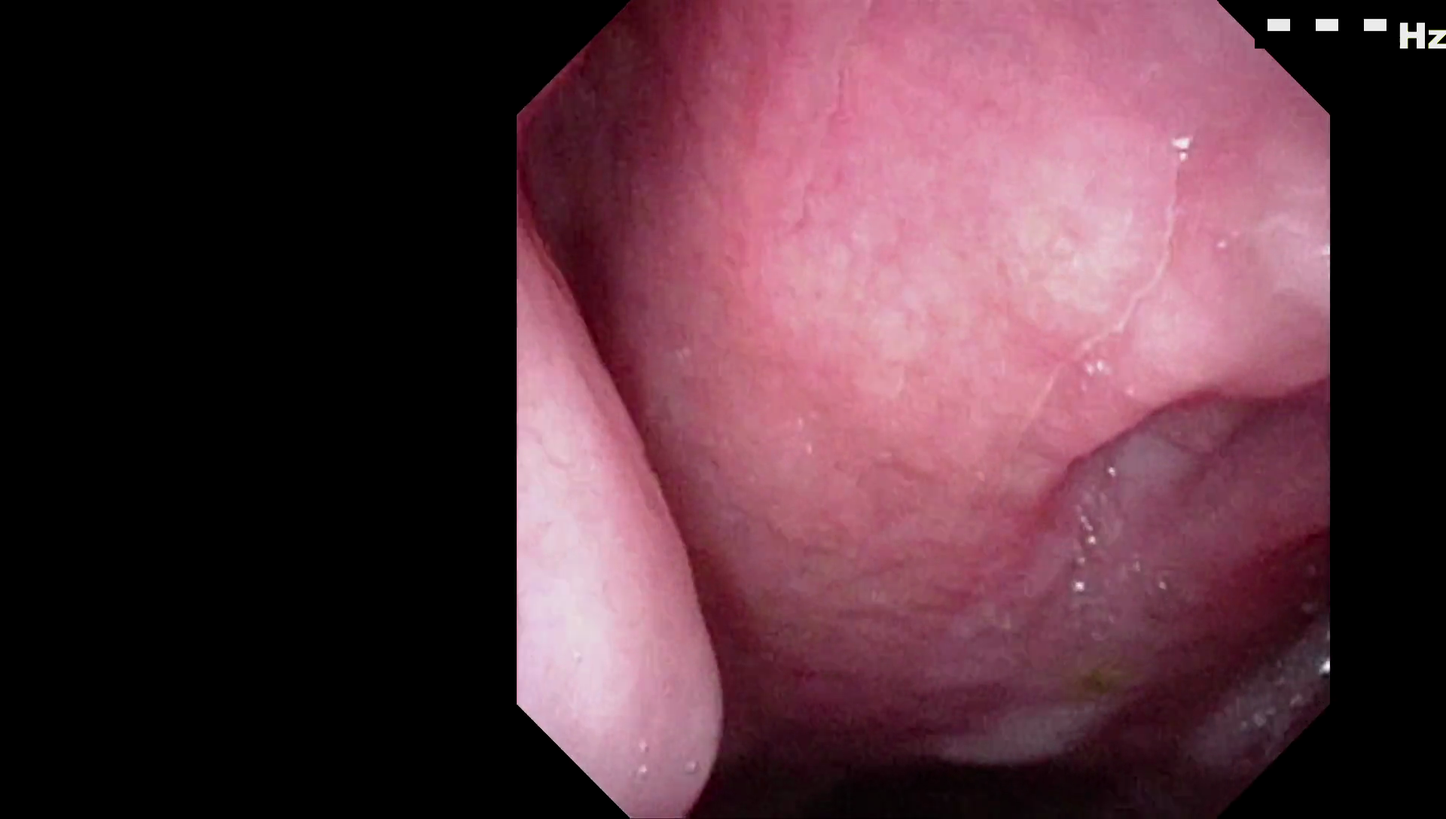close_wall: (520, 297, 763, 788)
next: (661, 668, 1132, 819)
